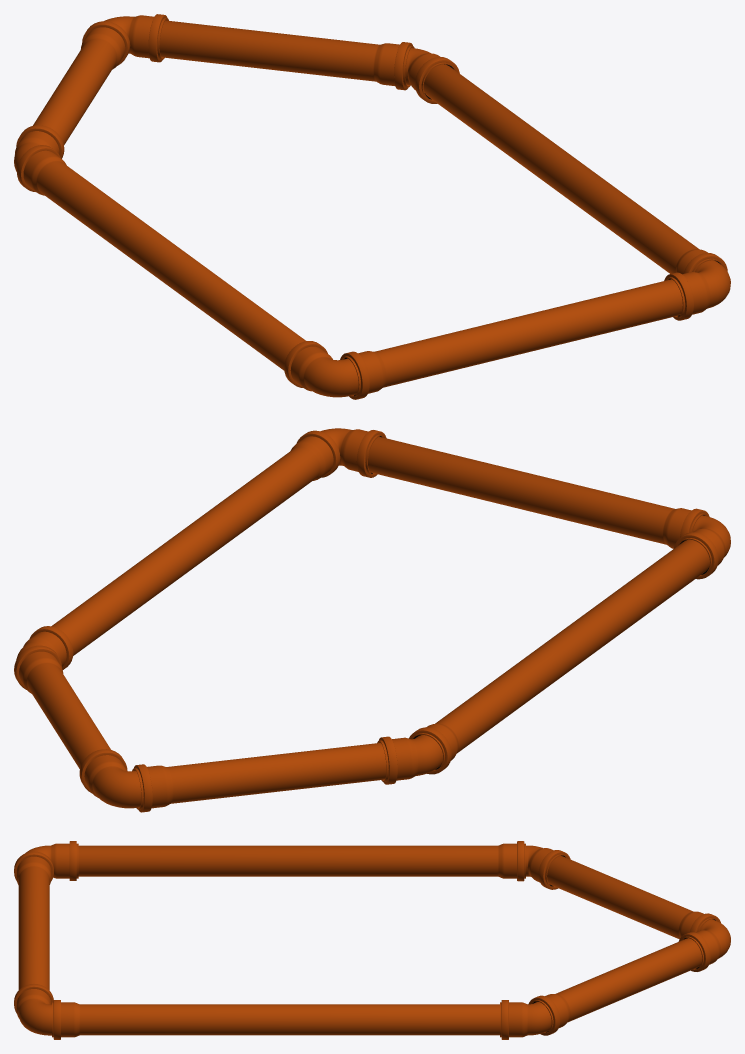
3 views of the same model, one above another, from view 1: azimuth 30°, elevation 25°; view 2: azimuth 150°, elevation 25°; view 3: azimuth 270°, elevation 25° (orthographic). The views are drawn at different scales.
Visible parts, largest first — view 1: Окружность.008, Окружность, Окружность.006, Окружность.004, Окружность.002, Окружность.009, Окружность.007, Окружность.003, Окружность.005, Окружность.001; view 2: Окружность, Окружность.006, Окружность.008, Окружность.002, Окружность.004, Окружность.003, Окружность.001, Окружность.007, Окружность.009, Окружность.005; view 3: Окружность, Окружность.006, Окружность.004, Окружность.002, Окружность.008, Окружность.005, Окружность.007, Окружность.003, Окружность.009, Окружность.001.
Boxes of the visible parts, x1,y1,x2,y2 form: Окружность.008: (340, 279, 682, 399); Окружность: (17, 145, 305, 370); Окружность.006: (423, 64, 727, 274); Окружность.004: (159, 20, 414, 90); Окружность.002: (33, 21, 130, 144); Окружность.009: (284, 341, 358, 397); Окружность.007: (664, 260, 730, 320); Окружность.003: (104, 14, 168, 62); Окружность.005: (405, 48, 459, 103); Окружность.001: (14, 125, 64, 171); Окружность: (409, 539, 709, 774); Окружность.006: (51, 430, 340, 655); Окружность.008: (368, 436, 709, 548); Окружность.002: (132, 743, 386, 812); Окружность.004: (14, 645, 110, 768); Окружность.003: (79, 749, 141, 808); Окружность.001: (377, 735, 442, 784); Окружность.007: (320, 428, 386, 477); Окружность.009: (674, 515, 730, 579); Окружность.005: (16, 626, 73, 669); Окружность: (78, 841, 525, 881); Окружность.006: (52, 1000, 499, 1039); Окружность.004: (528, 938, 702, 1035); Окружность.002: (547, 856, 720, 939); Окружность.008: (14, 851, 53, 990); Окружность.005: (500, 1000, 551, 1039); Окружность.007: (14, 984, 53, 1035); Окружность.003: (678, 919, 730, 971); Окружность.009: (26, 841, 78, 880); Окружность.001: (526, 845, 570, 889).
Size of the model in its own units: 1.5 by 0.1448 by 2.59.
Materials: 2 (1 with a texture image).
